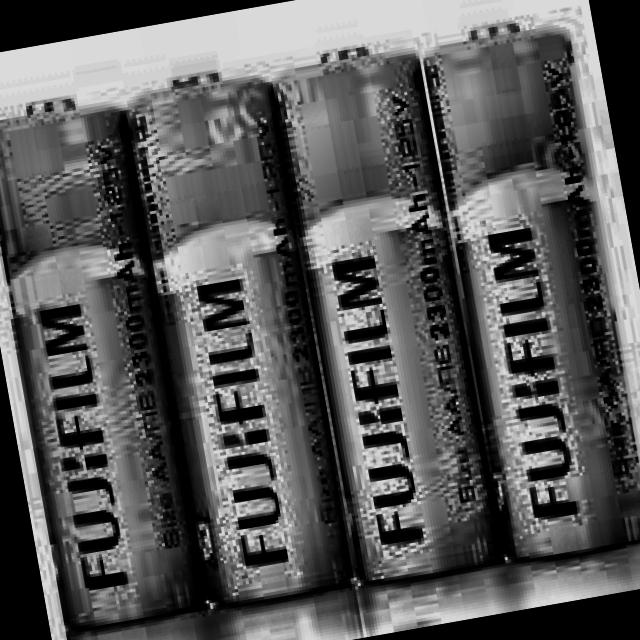Battery: (117, 65, 359, 628), (271, 34, 507, 596), (419, 13, 640, 567), (0, 93, 206, 630)
